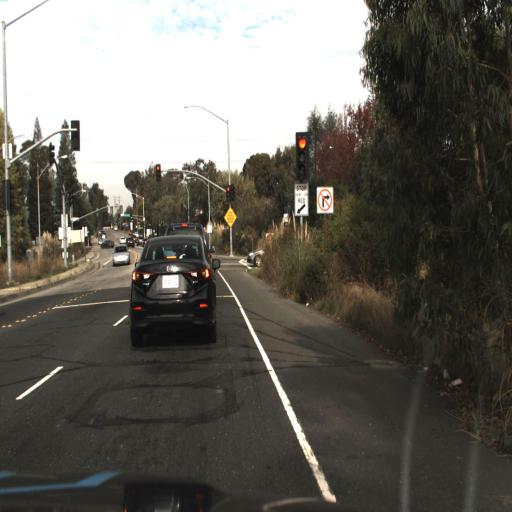car: (129, 229, 221, 353), (244, 242, 281, 272), (110, 242, 129, 271)
trafficLight-Red: (293, 131, 309, 182), (154, 161, 161, 185), (224, 183, 231, 204)
